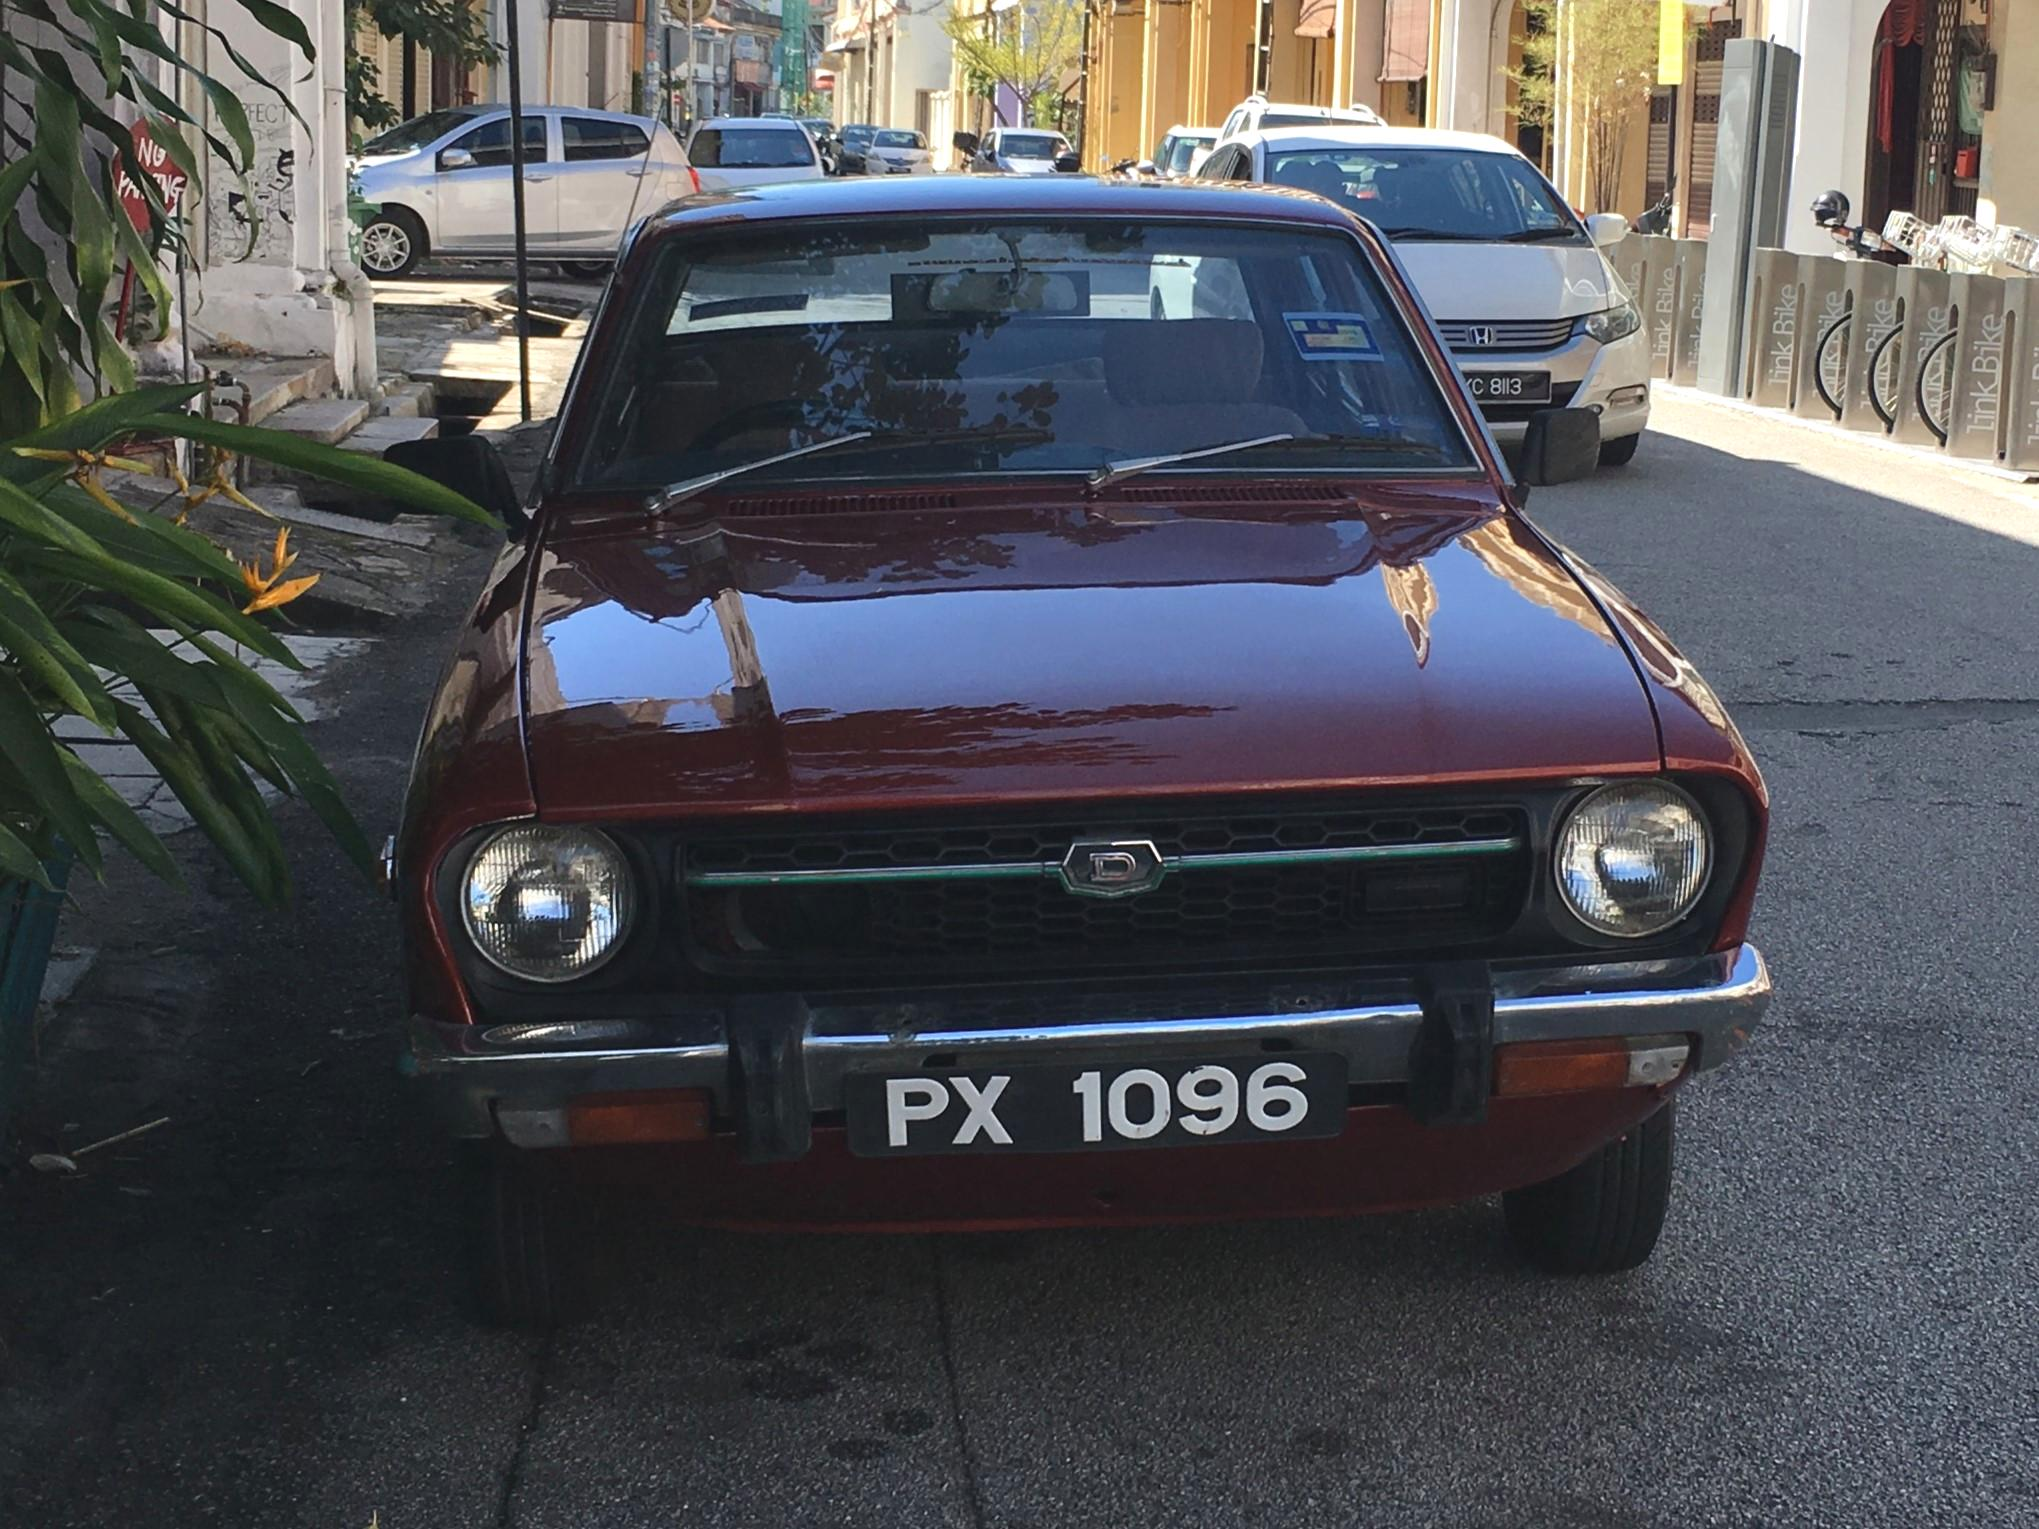License Plate: (857, 1048, 1350, 1160)
